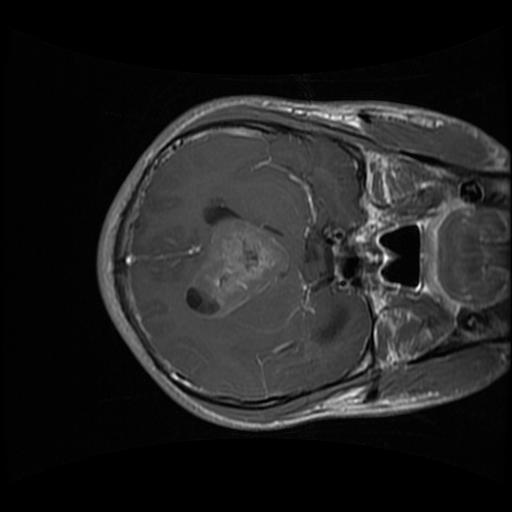glioma: (182, 199, 289, 320)
